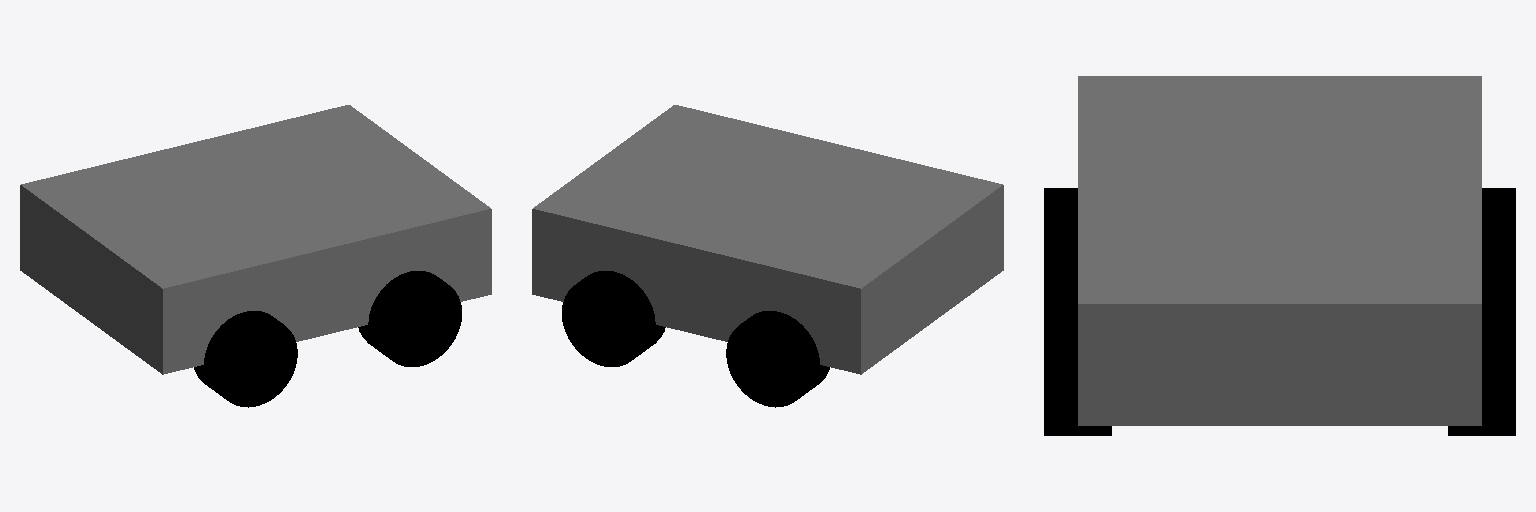
The robot description file, URDF, robot "diff_drive":
<?xml version="1.0"?>
<robot name="diff_drive">
  <material name="gray">
    <color rgba="0.5 0.5 0.5 1"/>
  </material>
  <material name="black">
    <color rgba="0.0 0.0 0.0 1"/>
  </material>

  <!-- Base Link -->
  <link name="base_link">
    <visual>
      <geometry>
        <box size="0.4 0.3 0.1"/>
      </geometry>
      <material name="gray"/>
    </visual>
    <collision>
      <geometry>
        <box size="0.4 0.3 0.1"/>
      </geometry>
    </collision>
    <inertial>
      <mass value="3.0"/>
      <origin xyz="0 0 0" rpy="0 0 0"/>
      <inertia ixx="0.03" ixy="0.0" ixz="0.0" iyy="0.025" iyz="0.0" izz="0.02"/>
    </inertial>
  </link>

  <!-- Left Front Wheel -->
  <link name="left_front_wheel">
    <visual>
      <geometry>
        <cylinder length="0.05" radius="0.05"/>
      </geometry>
      <origin rpy="0 1.5708 1.5708"/>
      <material name="black"/>
    </visual>
    <collision>
      <geometry>
        <cylinder length="0.05" radius="0.05"/>
      </geometry>
      <origin rpy="0 1.5708 1.5708"/>
    </collision>
    <inertial>
      <mass value="1.0"/>
      <origin xyz="0 0 0" rpy="0 0 0"/>
      <inertia ixx="0.0025" ixy="0.0" ixz="0.0" iyy="0.0025" iyz="0.0" izz="0.005"/>
    </inertial>
  </link>

  <!-- Left Back Wheel -->
  <link name="left_back_wheel">
    <visual>
      <geometry>
        <cylinder length="0.05" radius="0.05"/>
      </geometry>
      <origin rpy="0 1.5708 1.5708"/>
      <material name="black"/>
    </visual>
    <collision>
      <geometry>
        <cylinder length="0.05" radius="0.05"/>
      </geometry>
      <origin rpy="0 1.5708 1.5708"/>
    </collision>
    <inertial>
      <mass value="1.0"/>
      <origin xyz="0 0 0" rpy="0 0 0"/>
      <inertia ixx="0.0025" ixy="0.0" ixz="0.0" iyy="0.0025" iyz="0.0" izz="0.005"/>
    </inertial>
  </link>

  <!-- Right Front Wheel -->
  <link name="right_front_wheel">
    <visual>
      <geometry>
        <cylinder length="0.05" radius="0.05"/>
      </geometry>
      <origin rpy="0 1.5708 1.5708"/>
      <material name="black"/>
    </visual>
    <collision>
      <geometry>
        <cylinder length="0.05" radius="0.05"/>
      </geometry>
      <origin rpy="0 1.5708 1.5708"/>
    </collision>
    <inertial>
      <mass value="1.0"/>
      <origin xyz="0 0 0" rpy="0 0 0"/>
      <inertia ixx="0.0025" ixy="0.0" ixz="0.0" iyy="0.0025" iyz="0.0" izz="0.005"/>
    </inertial>
  </link>

  <!-- Right Back Wheel -->
  <link name="right_back_wheel">
    <visual>
      <geometry>
        <cylinder length="0.05" radius="0.05"/>
      </geometry>
      <origin rpy="0 1.5708 1.5708"/>
      <material name="black"/>
    </visual>
    <collision>
      <geometry>
        <cylinder length="0.05" radius="0.05"/>
      </geometry>
      <origin rpy="0 1.5708 1.5708"/>
    </collision>
    <inertial>
      <mass value="1.0"/>
      <origin xyz="0 0 0" rpy="0 0 0"/>
      <inertia ixx="0.0025" ixy="0.0" ixz="0.0" iyy="0.0025" iyz="0.0" izz="0.005"/>
    </inertial>
  </link>

  <!-- Joints -->
  <joint name="left_front_wheel_joint" type="continuous">
    <parent link="base_link"/>
    <child link="left_front_wheel"/>
    <origin xyz="0.1 0.15 -0.05" rpy="0 0 0"/>
    <axis xyz="0 1 0"/>
  </joint>

  <joint name="left_back_wheel_joint" type="continuous">
    <parent link="base_link"/>
    <child link="left_back_wheel"/>
    <origin xyz="-0.1 0.15 -0.05" rpy="0 0 0"/>
    <axis xyz="0 1 0"/>
  </joint>

  <joint name="right_front_wheel_joint" type="continuous">
    <parent link="base_link"/>
    <child link="right_front_wheel"/>
    <origin xyz="0.1 -0.15 -0.05" rpy="0 0 0"/>
    <axis xyz="0 1 0"/>
  </joint>

  <joint name="right_back_wheel_joint" type="continuous">
    <parent link="base_link"/>
    <child link="right_back_wheel"/>
    <origin xyz="-0.1 -0.15 -0.05" rpy="0 0 0"/>
    <axis xyz="0 1 0"/>
  </joint>

</robot>

--- What the picture shows (computed from the rendered views, not written in the file) ---
The picture shows the robot from 3 angles, left to right: view 1: azimuth 30°, elevation 25°; view 2: azimuth 150°, elevation 25°; view 3: azimuth 270°, elevation 25°; orthographic projection.
Robot: diff_drive — 5 links, 4 joints (4 continuous); root link base_link; default pose: all joints at 0.
Links seen in each view (by area): view 1: base_link, right_front_wheel, right_back_wheel; view 2: base_link, left_front_wheel, left_back_wheel; view 3: base_link, left_front_wheel, right_front_wheel, left_back_wheel, right_back_wheel.
Boxes of the visible links, x1=… form: base_link: x1=20, y1=105, x2=491, y2=374; right_front_wheel: x1=358, y1=271, x2=461, y2=366; right_back_wheel: x1=194, y1=311, x2=297, y2=407; base_link: x1=532, y1=105, x2=1003, y2=374; left_front_wheel: x1=562, y1=271, x2=665, y2=366; left_back_wheel: x1=726, y1=311, x2=829, y2=407; base_link: x1=1078, y1=76, x2=1481, y2=425; left_front_wheel: x1=1448, y1=301, x2=1515, y2=435; right_front_wheel: x1=1044, y1=301, x2=1111, y2=435; left_back_wheel: x1=1482, y1=188, x2=1515, y2=300; right_back_wheel: x1=1044, y1=188, x2=1077, y2=300.
Size in the robot's own frame: 0.4 by 0.35 by 0.15 metres.
Geometry: primitives only (box / cylinder / sphere), no mesh files.
